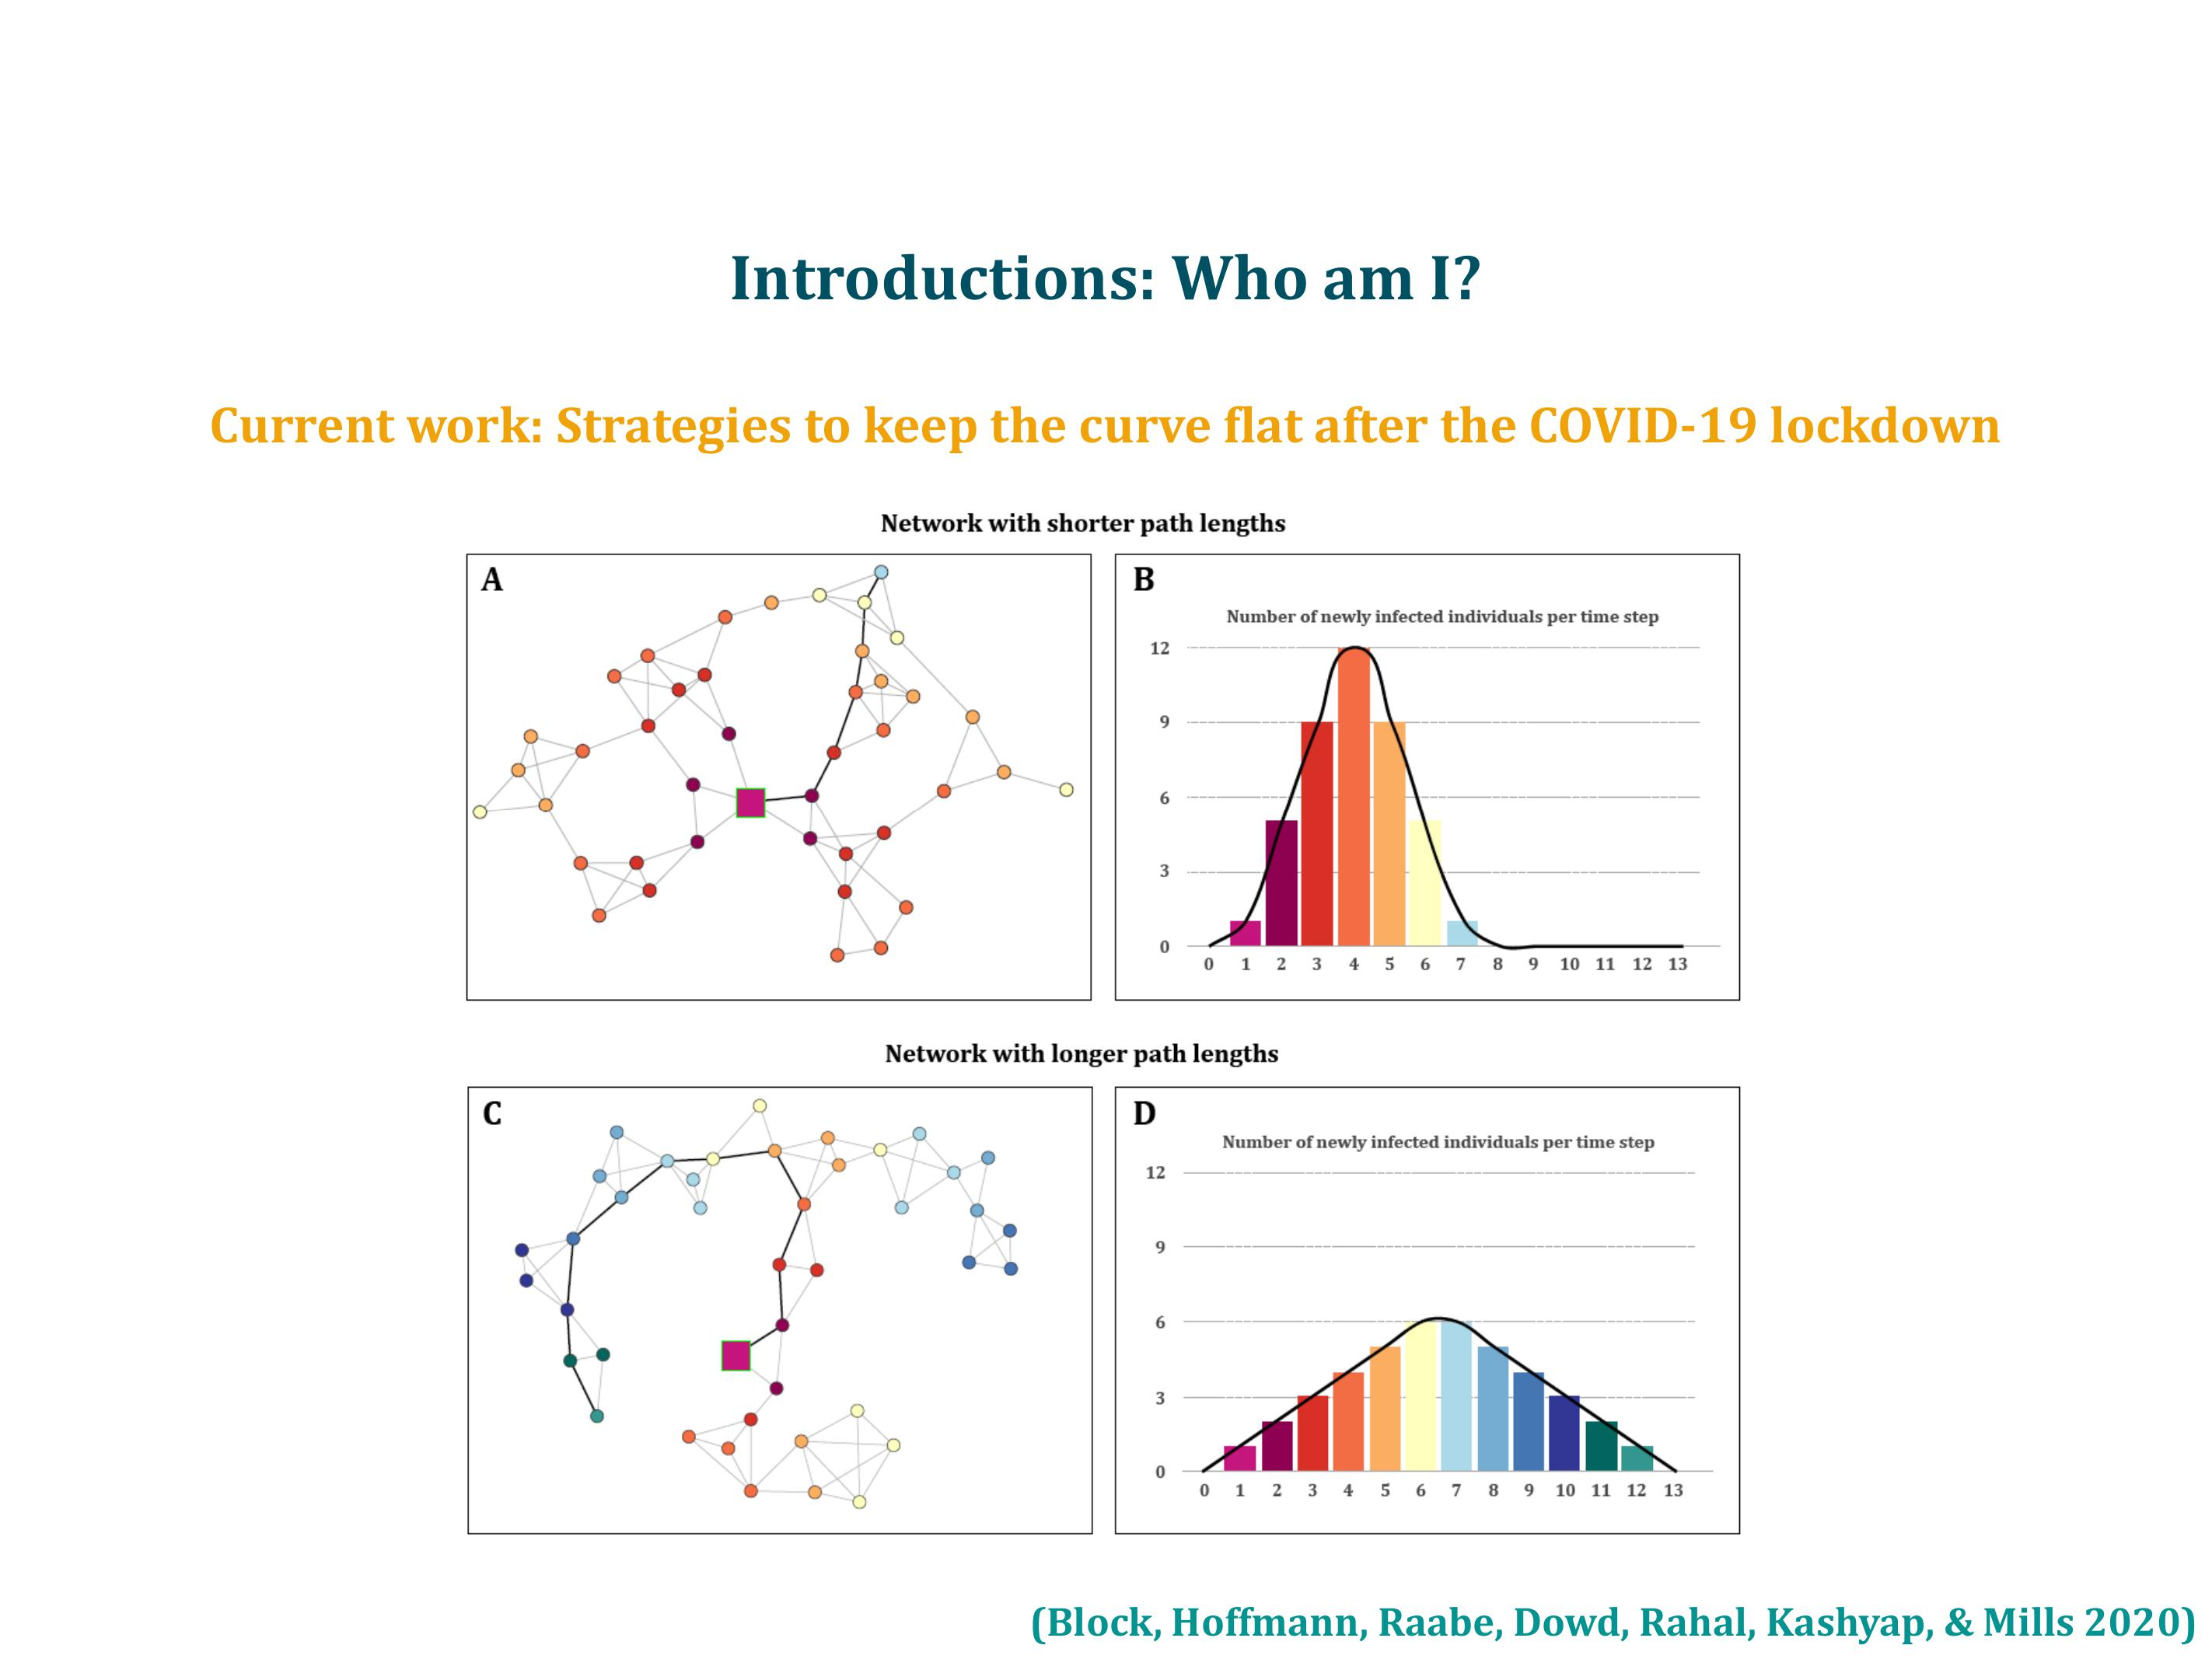Title: (727, 237, 1492, 324)
